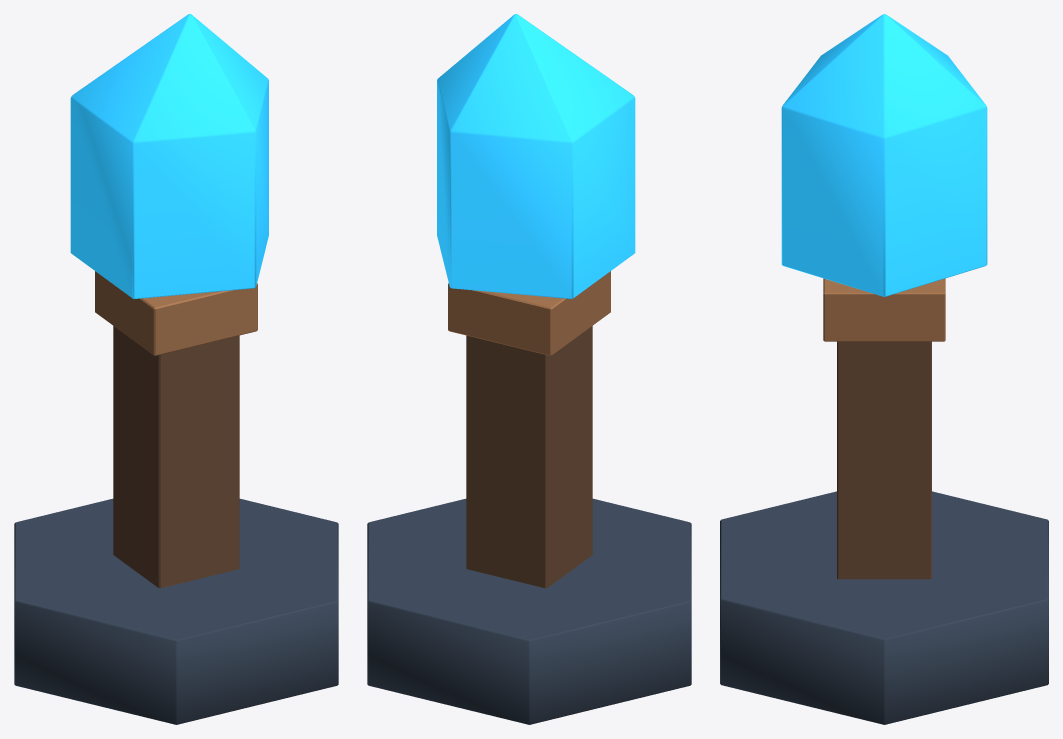
The model's file is crystal_lamp_01.glb.
3 views of the same model, side by side, from view 1: azimuth 30°, elevation 25°; view 2: azimuth 150°, elevation 25°; view 3: azimuth 270°, elevation 25° (orthographic).
Visible parts, largest first — view 1: crystal_lamp_01; view 2: crystal_lamp_01; view 3: crystal_lamp_01.
Part boxes in pixels (x1=…): crystal_lamp_01: x1=14, y1=14, x2=338, y2=724; crystal_lamp_01: x1=367, y1=14, x2=691, y2=724; crystal_lamp_01: x1=720, y1=14, x2=1048, y2=724.
Size of the model in its own units: 0.558 by 1.04 by 0.485.
